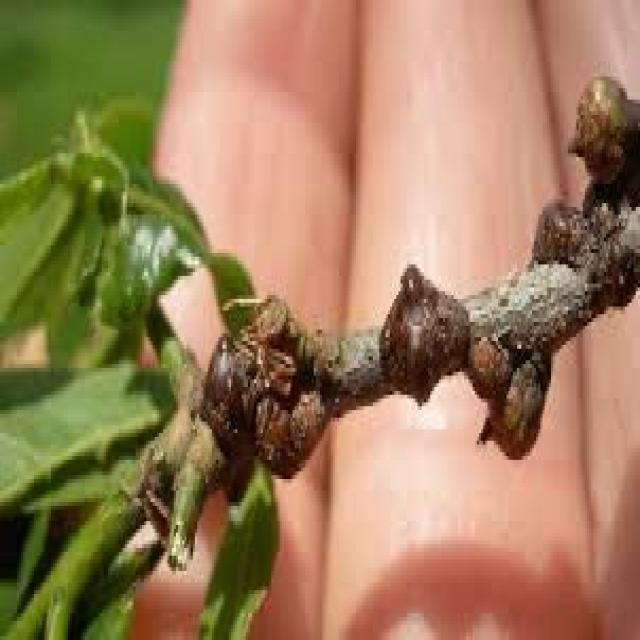BlackScale: (199, 295, 335, 488), (528, 199, 638, 322), (466, 310, 551, 456), (568, 77, 638, 207), (378, 306, 468, 402)
